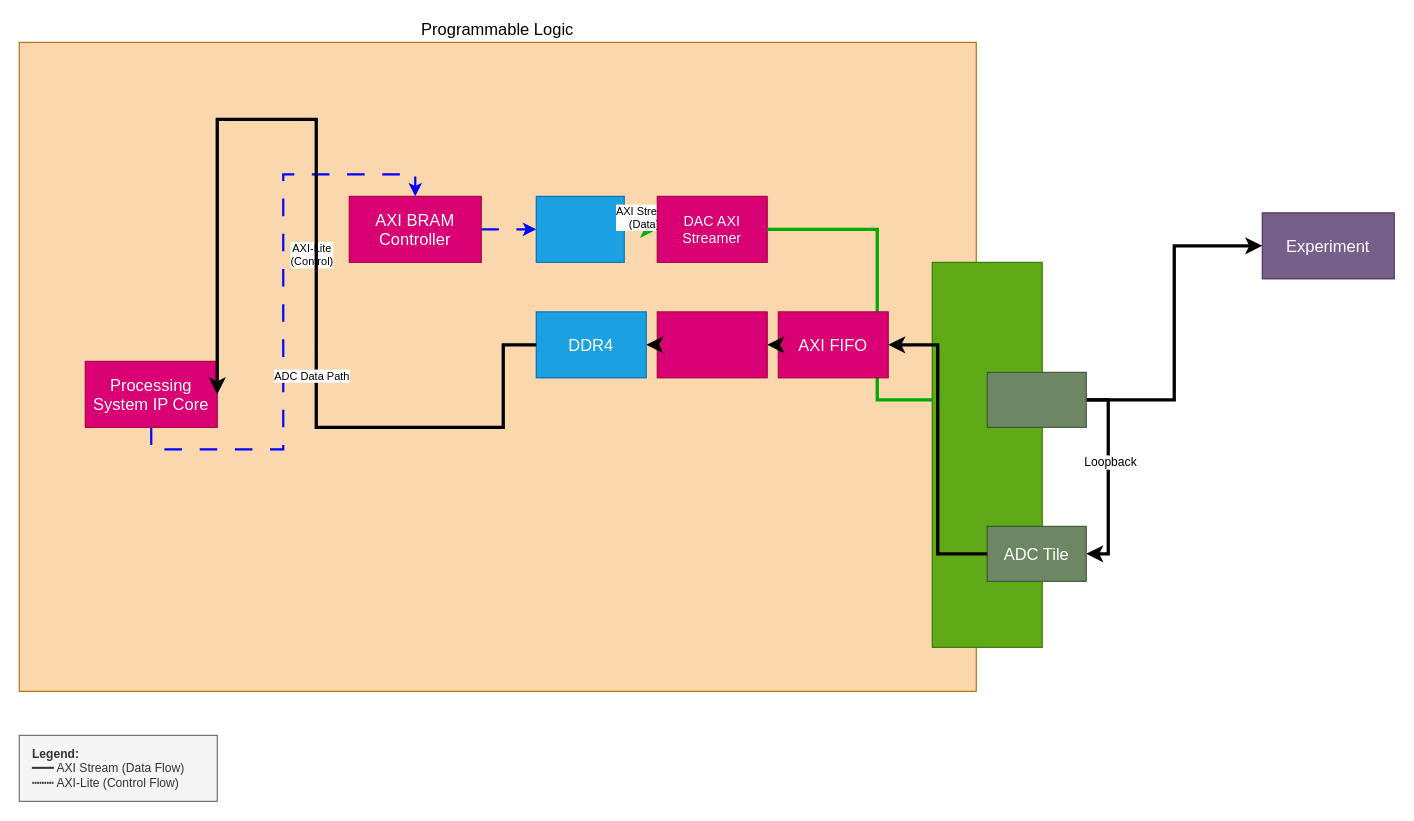
This 1414x821 diagram has some shape labels left out. The shapes that lost their labels are listed below. From the top down, each one's box as (x1, y1, x2, y2) in pixels, then its label:
(535, 195, 624, 262): BRAM
(656, 311, 767, 378): AXI DMA
(986, 371, 1086, 427): DAC Tile
(931, 261, 1042, 647): RF Data Converter (RFDC)
